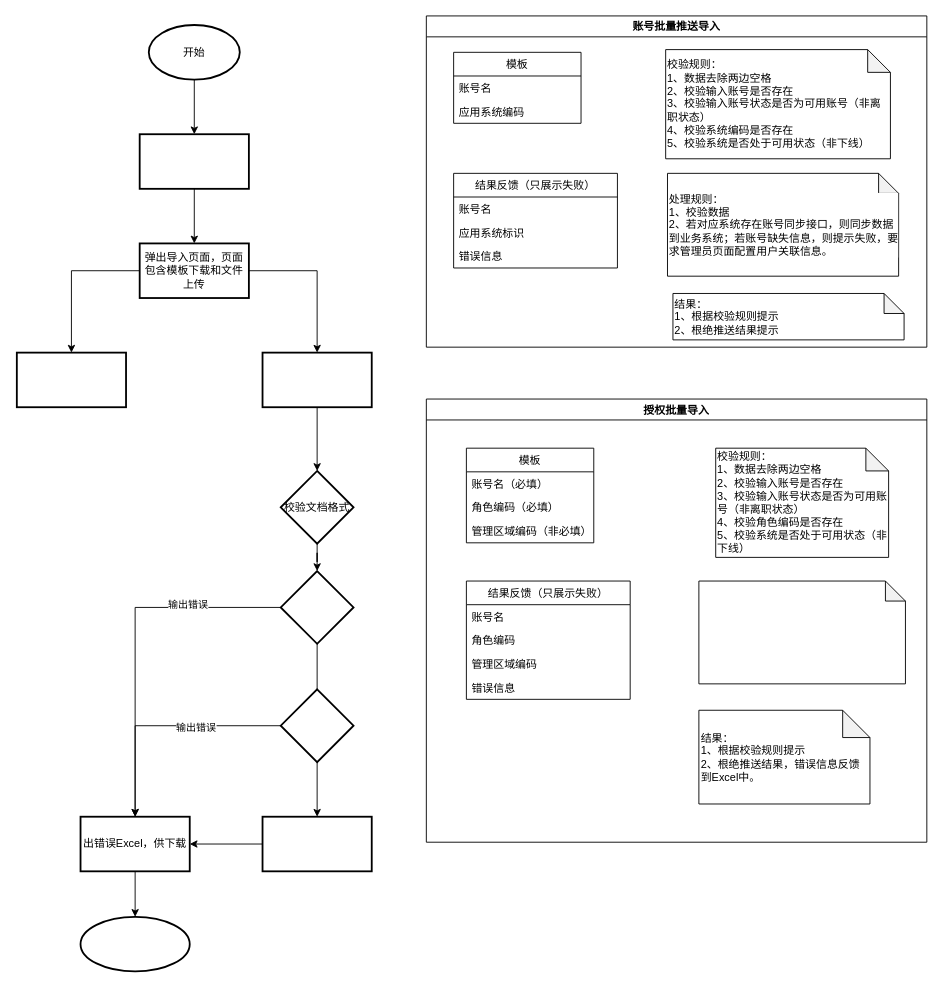
Image size: 943x988. Some labels were removed from this diagram. The centre of each missing label's shape, as x and y in pixels:
"上传导入文件" belongs at (316,379).
"下载模板" belongs at (70,379).
"处理规则： 1、校验数据 2、若角色属于资源系统角色，则管理区域编码必填。 3、若对方系统存在授权同步接口，这同步到业务系统，并保存到本地数据库。" belongs at (801,632).
"推送业务系统， 记录本地数据库， 记录变更日志" belongs at (316,843).
"校验数据合法性" belongs at (316,725).
"校验数据格式" belongs at (316,607).
"点击XX导入" belongs at (193,161).
"结束" belongs at (134,943).
